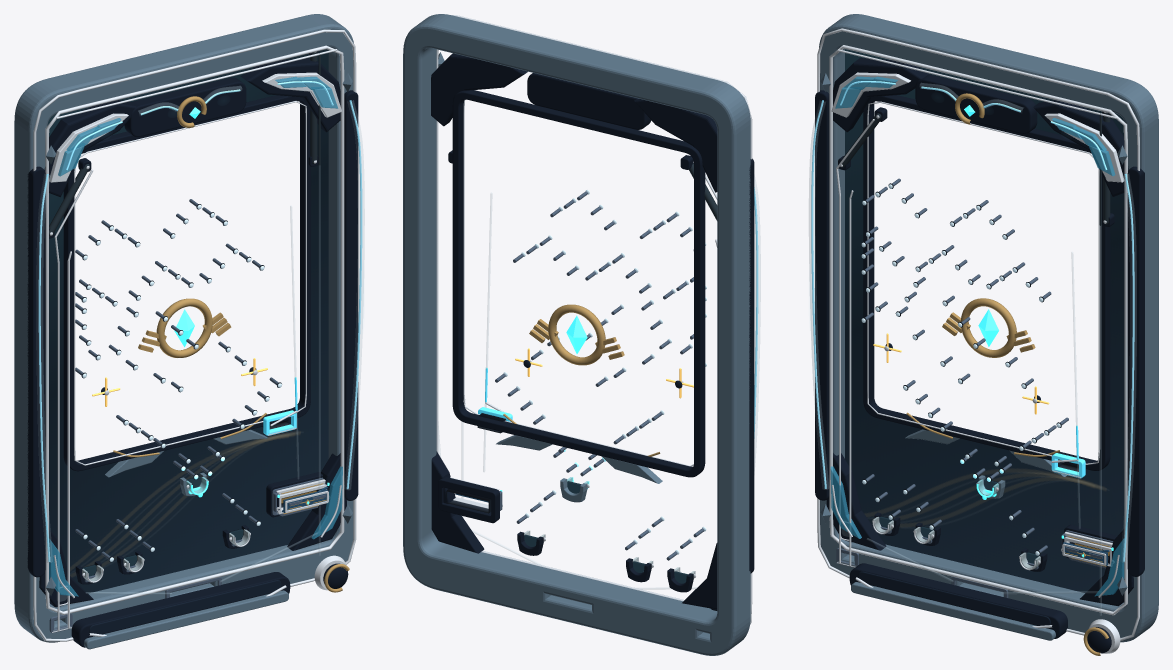
File: course-2.glb
3 views of the same model, side by side, from view 1: azimuth 30°, elevation 25°; view 2: azimuth 150°, elevation 25°; view 3: azimuth 330°, elevation 25° (orthographic). The views are drawn at different scales.
Visible parts, largest first — view 1: part-31, part-4, part-42, part-7, part-6, part-11, part-48, part-12, part-8, part-57, part-58, part-59 (+19 smaller); view 2: part-4, part-42, part-48, part-23, part-15, part-7, part-28, part-6, part-8, attacker-housing, part-64, part-20 (+4 smaller); view 3: part-31, part-4, part-42, part-11, part-6, part-7, part-48, part-8, part-12, part-57, part-58, part-59 (+17 smaller).
Boxes of the visible parts, <box> form: part-31: <box>47,49,328,593</box>; part-4: <box>14,14,353,642</box>; part-42: <box>63,95,310,471</box>; part-7: <box>27,166,45,577</box>; part-6: <box>45,45,344,614</box>; part-11: <box>344,90,358,500</box>; part-48: <box>124,77,246,136</box>; part-12: <box>344,100,364,489</box>; part-8: <box>36,174,52,562</box>; part-57: <box>71,572,290,647</box>; part-58: <box>84,590,288,649</box>; part-59: <box>89,580,281,636</box>; part-4: <box>403,14,750,655</box>; part-42: <box>452,90,705,477</box>; part-48: <box>527,73,651,129</box>; part-23: <box>431,54,527,126</box>; part-15: <box>634,99,717,192</box>; part-7: <box>749,158,754,573</box>; part-28: <box>431,451,484,553</box>; part-6: <box>436,49,684,601</box>; part-8: <box>754,176,760,470</box>; attacker-housing: <box>438,477,499,523</box>; part-64: <box>548,304,605,365</box>; part-20: <box>682,543,717,609</box>; part-31: <box>845,49,1124,602</box>; part-4: <box>819,14,1158,642</box>; part-42: <box>863,95,1110,470</box>; part-11: <box>1127,166,1144,576</box>; part-6: <box>829,45,1127,615</box>; part-7: <box>815,90,829,500</box>; part-48: <box>915,74,1037,134</box>; part-8: <box>809,100,828,489</box>; part-12: <box>1121,174,1136,562</box>; part-57: <box>849,563,1067,638</box>; part-58: <box>851,582,1055,640</box>; part-59: <box>858,571,1050,625</box>.
Bounding box in the file's own units: 464 × 738 × 75.42.
Materials: 76 (8 with a texture image).
